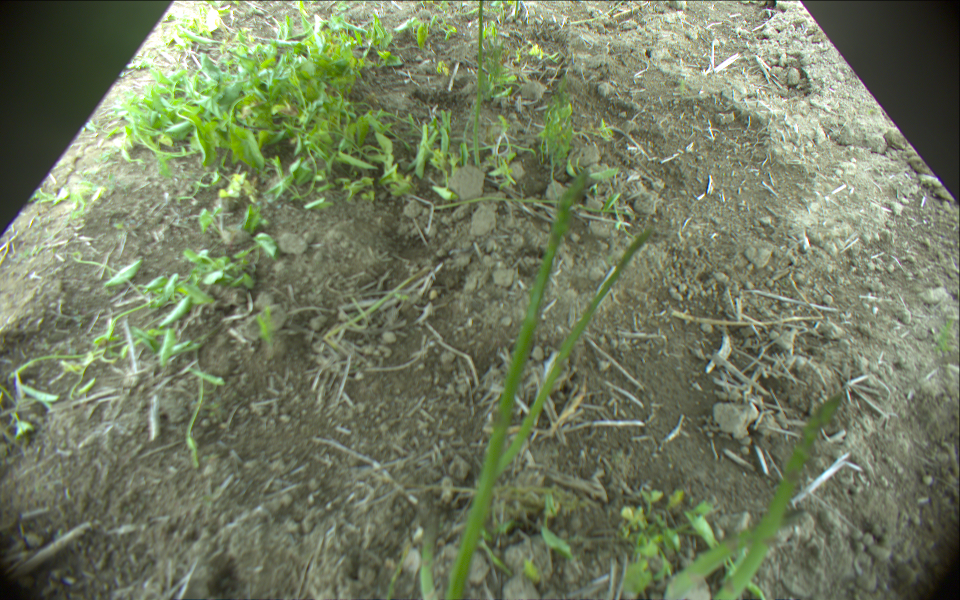aspa: (443, 171, 589, 600), (489, 224, 652, 484), (715, 390, 845, 600), (664, 524, 760, 600), (416, 506, 442, 600), (472, 1, 485, 166)
